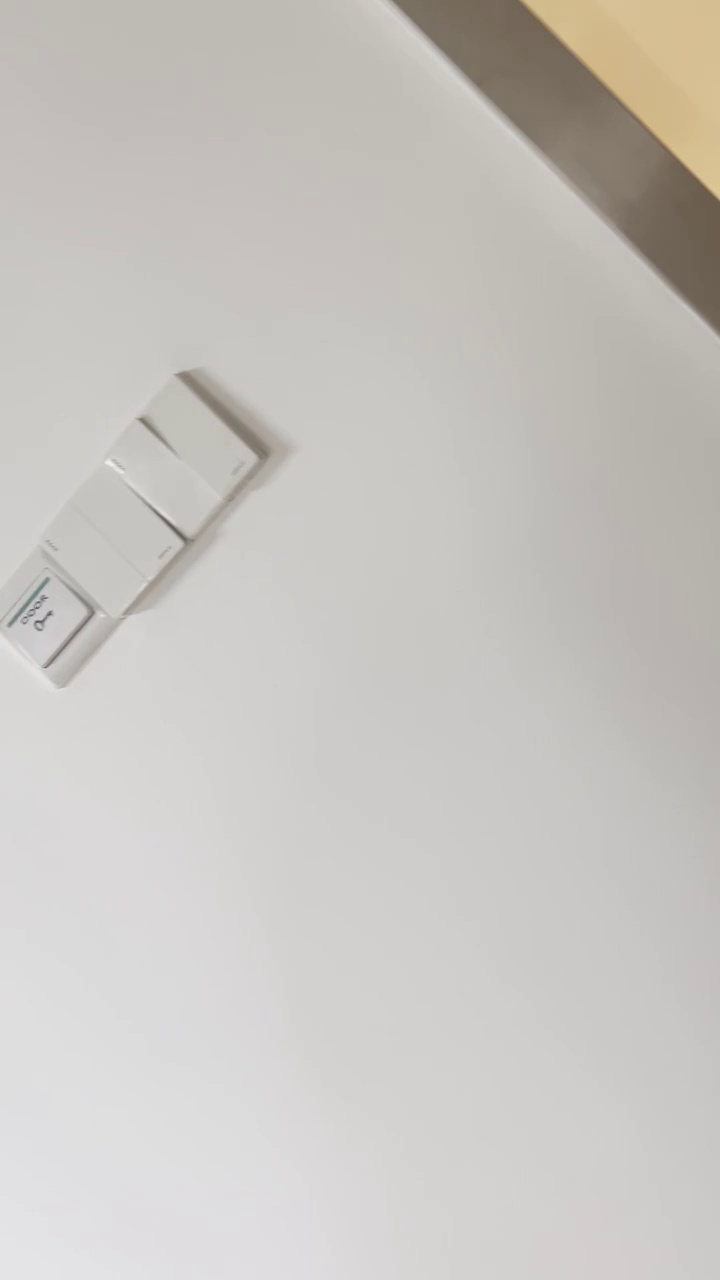button: (103, 367, 274, 545), (34, 460, 184, 622)
